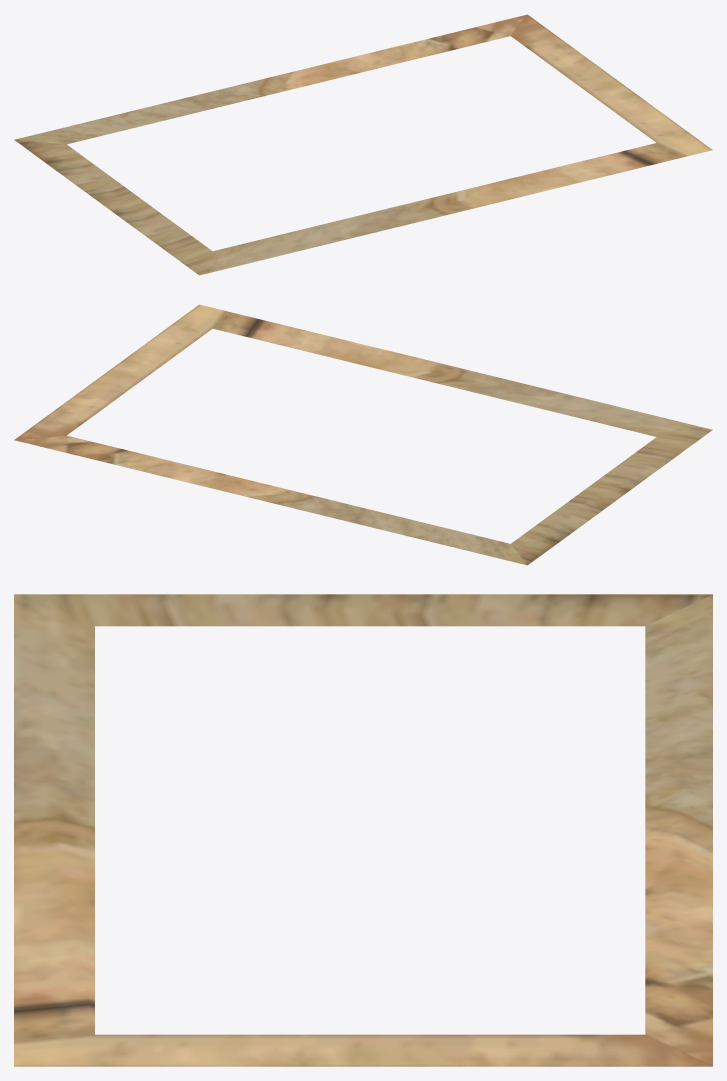
The model's file is poi_tato_corral_pen_16x8_s01_floor.fbx.
3 views of the same model, one above another, from view 1: azimuth 30°, elevation 25°; view 2: azimuth 150°, elevation 25°; view 3: azimuth 270°, elevation 25° (orthographic). The views are drawn at different scales.
Parts seen in each view (by area): view 1: mesh_node; view 2: mesh_node; view 3: mesh_node.
Boxes of the visible parts, <box> form: mesh_node: <box>14,14,712,275</box>; mesh_node: <box>14,304,712,565</box>; mesh_node: <box>14,594,712,1066</box>.
Size of the model in its own units: 20.83 by 0 by 13.02.
1 material, 1 textured.
